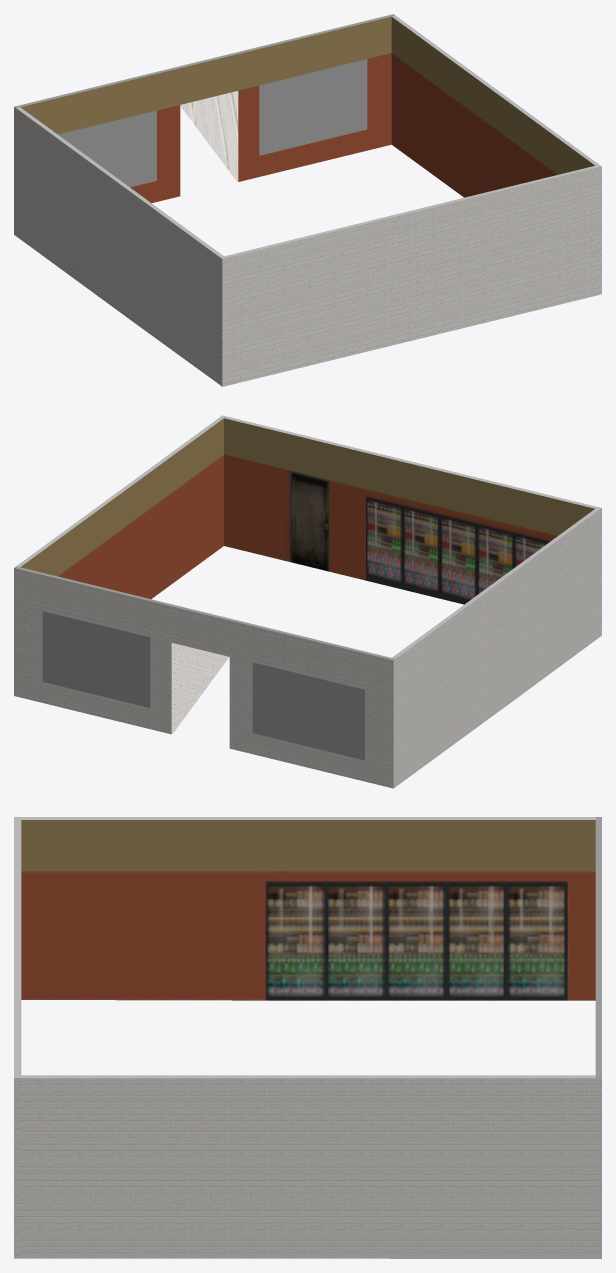
The model's file is StoreNoDoor.fbx.
The picture shows the model from 3 angles, top to bottom: view 1: azimuth 30°, elevation 25°; view 2: azimuth 150°, elevation 25°; view 3: azimuth 270°, elevation 25°; orthographic projection. The views are drawn at different scales.
Parts seen in each view (by area): view 1: wall_drinksWithDoor; view 2: wall_drinksWithDoor; view 3: wall_drinksWithDoor.
Part boxes in pixels (bbox=[...]): wall_drinksWithDoor: bbox=[14, 14, 601, 386]; wall_drinksWithDoor: bbox=[14, 415, 601, 788]; wall_drinksWithDoor: bbox=[14, 817, 601, 1258].
Size of the model in its own units: 76.29 by 24.6 by 72.55.
